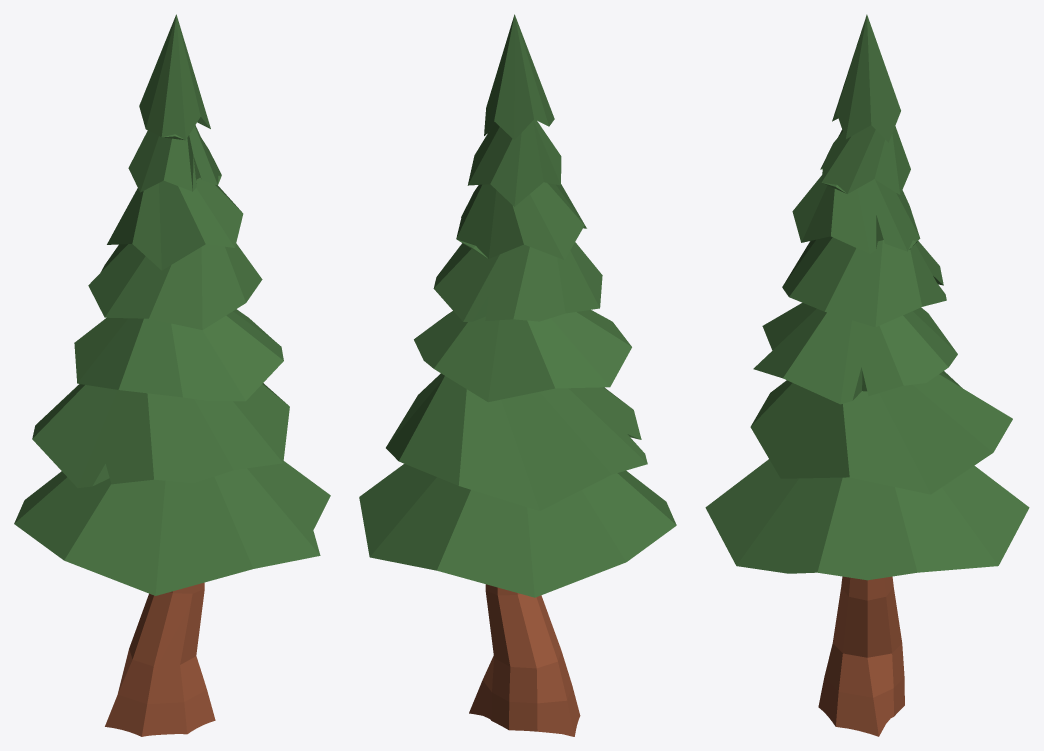
The picture shows the model from 3 angles, left to right: view 1: azimuth 30°, elevation 25°; view 2: azimuth 150°, elevation 25°; view 3: azimuth 270°, elevation 25°; orthographic projection.
Visible parts, largest first — view 1: tree; view 2: tree; view 3: tree.
Part boxes in pixels (left/top/right/bottom): tree: left=14, top=14, right=330, bottom=736; tree: left=359, top=14, right=676, bottom=736; tree: left=705, top=14, right=1029, bottom=736.
Bounding box in the file's own units: 4.48 × 11.28 × 4.71.
